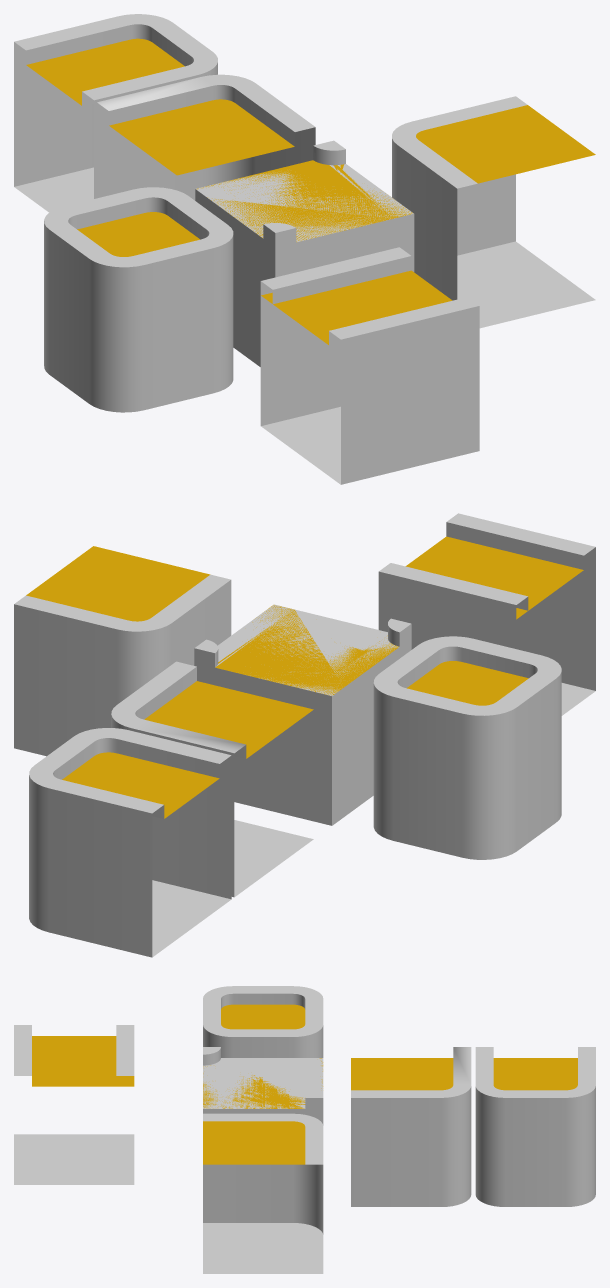
The model's file is RuleTileAssets updated.fbx.
The picture shows the model from 3 angles, top to bottom: view 1: azimuth 30°, elevation 25°; view 2: azimuth 150°, elevation 25°; view 3: azimuth 270°, elevation 25°; orthographic projection. The views are drawn at different scales.
Visible parts, largest first — view 1: Center.001, Side, 1Rounded.001, 2Rounded, 1Rounded, Side.001, Center, Center.002, Center.003; view 2: 2Rounded, Center.001, 1Rounded.001, Side, Center.002, Center, 1Rounded, Side.001, Center.003; view 3: 1Rounded.001, 2Rounded, 1Rounded, Side.001, Center.001, Center, Side, Center.003, Center.002.
Part boxes in pixels (bbox=[...]): Center.001: bbox=[44, 187, 233, 412]; Side: bbox=[261, 270, 479, 484]; 1Rounded.001: bbox=[392, 96, 595, 328]; 2Rounded: bbox=[14, 14, 217, 212]; 1Rounded: bbox=[97, 74, 315, 200]; Side.001: bbox=[260, 247, 442, 482]; Center: bbox=[196, 164, 414, 366]; Center.002: bbox=[196, 140, 414, 366]; Center.003: bbox=[195, 142, 413, 358]; 2Rounded: bbox=[29, 728, 231, 957]; Center.001: bbox=[373, 636, 561, 859]; 1Rounded.001: bbox=[14, 546, 231, 756]; Side: bbox=[405, 513, 595, 714]; Center.002: bbox=[196, 605, 411, 824]; Center: bbox=[216, 604, 411, 825]; 1Rounded: bbox=[111, 661, 313, 897]; Side.001: bbox=[378, 537, 592, 715]; Center.003: bbox=[194, 618, 411, 824]; 1Rounded.001: bbox=[203, 1113, 323, 1273]; 2Rounded: bbox=[475, 1047, 595, 1206]; 1Rounded: bbox=[351, 1047, 471, 1206]; Side.001: bbox=[14, 1025, 134, 1184]; Center.001: bbox=[203, 986, 323, 1057]; Center: bbox=[203, 1058, 323, 1125]; Side: bbox=[14, 1025, 134, 1184]; Center.003: bbox=[203, 1047, 323, 1114]; Center.002: bbox=[203, 1058, 323, 1123].
Size of the model in its own units: 7.01 by 2 by 9.66.
